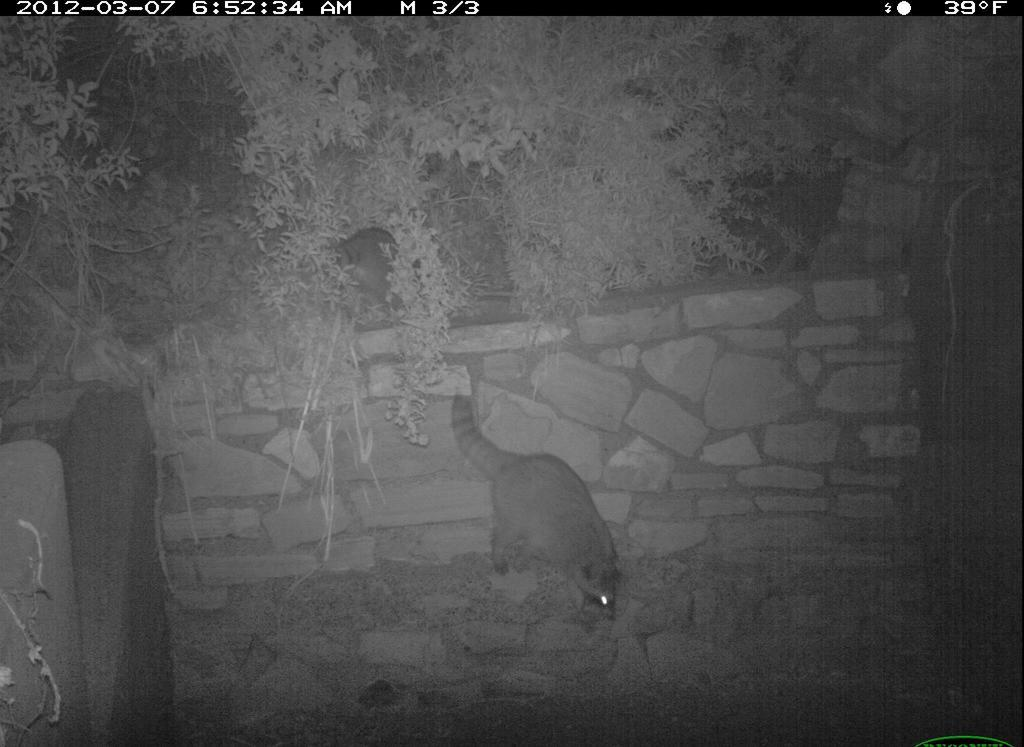raccoon: (441, 390, 637, 621), (264, 218, 433, 347)
